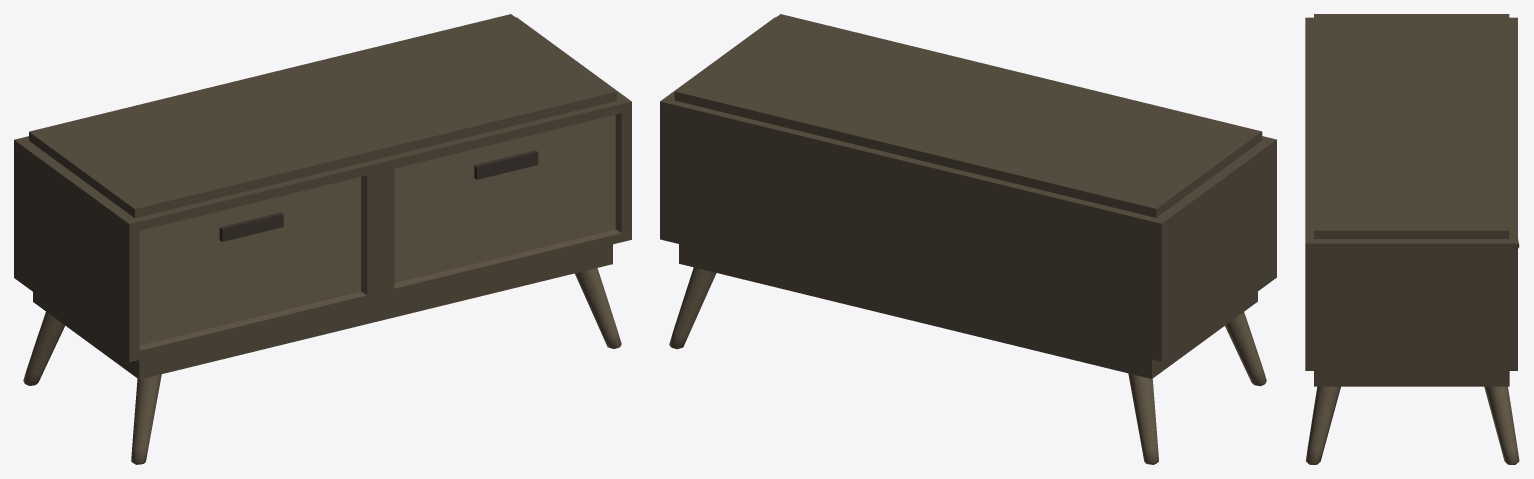
Rendered from Drawer_1.glb.
The picture shows the model from 3 angles, left to right: view 1: azimuth 30°, elevation 25°; view 2: azimuth 150°, elevation 25°; view 3: azimuth 270°, elevation 25°; orthographic projection. The views are drawn at different scales.
Visible parts, largest first — view 1: Drawer_1; view 2: Drawer_1; view 3: Drawer_1.
Part boxes in pixels (box(x1,y1,x2,y2)): Drawer_1: box(14, 14, 631, 464); Drawer_1: box(660, 14, 1276, 464); Drawer_1: box(1305, 14, 1519, 464).
Size of the model in its own units: 1.37 by 0.6616 by 0.547.
Materials: 3 (3 with a texture image).
